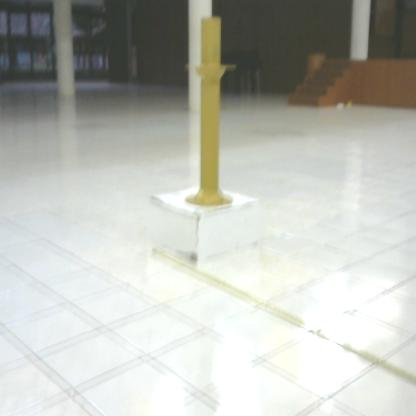pole: (178, 16, 243, 213)
